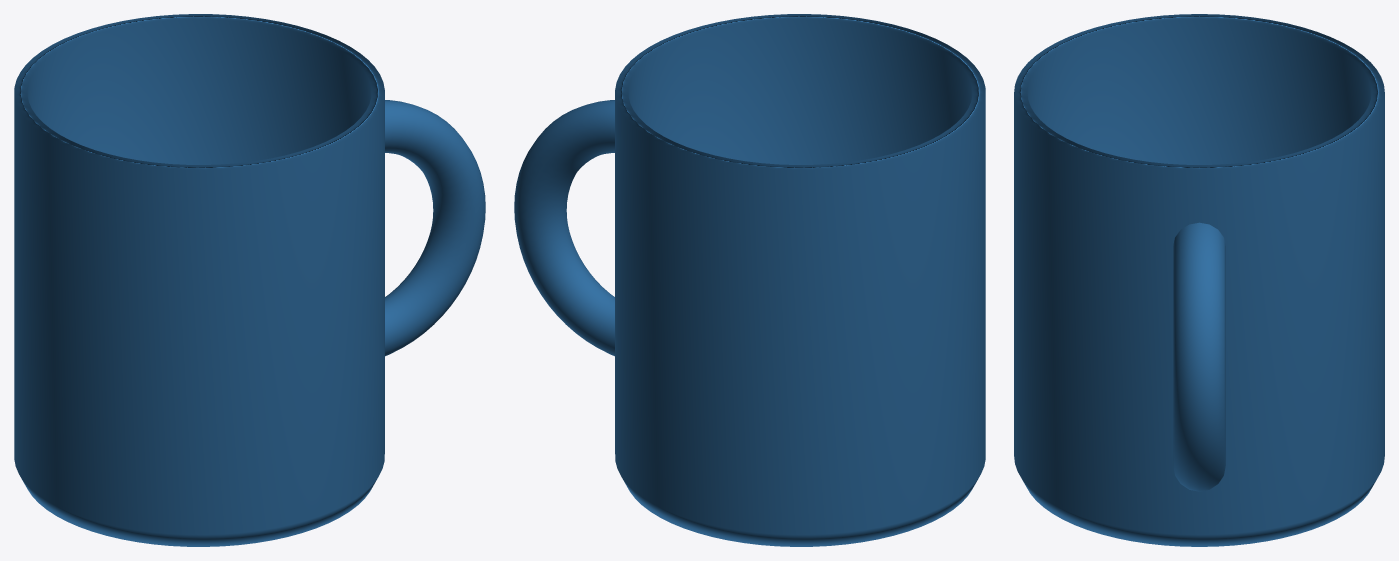
Rendered from mug.glb.
The picture shows the model from 3 angles, left to right: view 1: azimuth 30°, elevation 25°; view 2: azimuth 150°, elevation 25°; view 3: azimuth 270°, elevation 25°; orthographic projection.
Visible parts, largest first — view 1: Body, Handle; view 2: Body, Handle; view 3: Body, Handle.
Part boxes in pixels (x1=…): Body: x1=14, y1=14, x2=384, y2=546; Handle: x1=385, y1=100, x2=485, y2=356; Body: x1=615, y1=14, x2=985, y2=546; Handle: x1=514, y1=100, x2=614, y2=356; Body: x1=1014, y1=14, x2=1384, y2=546; Handle: x1=1173, y1=222, x2=1225, y2=491.
Bounding box in the file's own units: 0.116 × 0.095 × 0.084.
